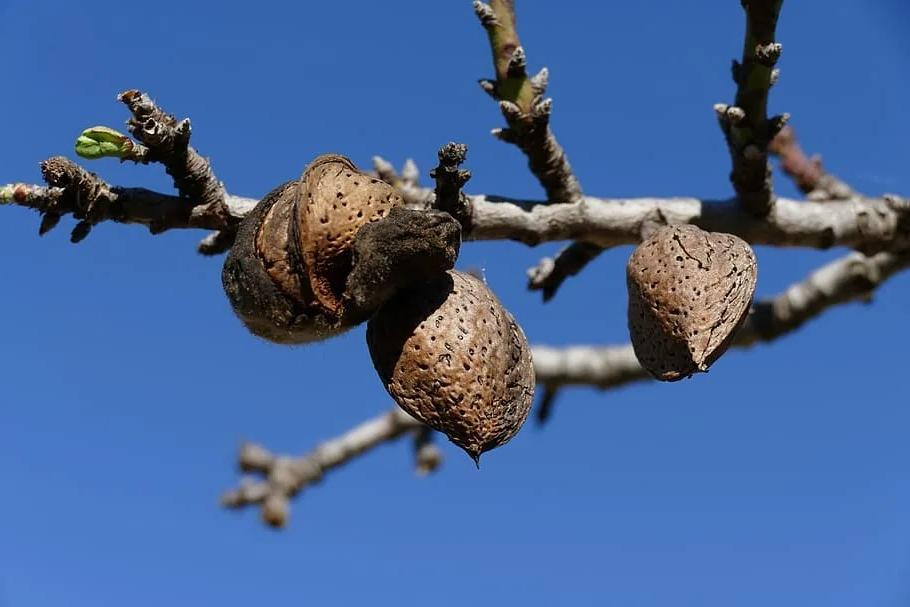mummified_fruits: (222, 154, 403, 344), (366, 270, 534, 465), (627, 225, 756, 380)
